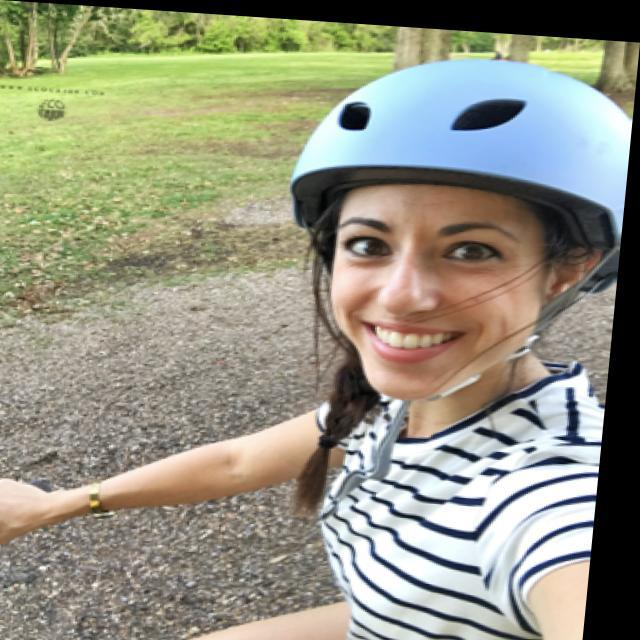Helmet: (276, 46, 634, 410)
